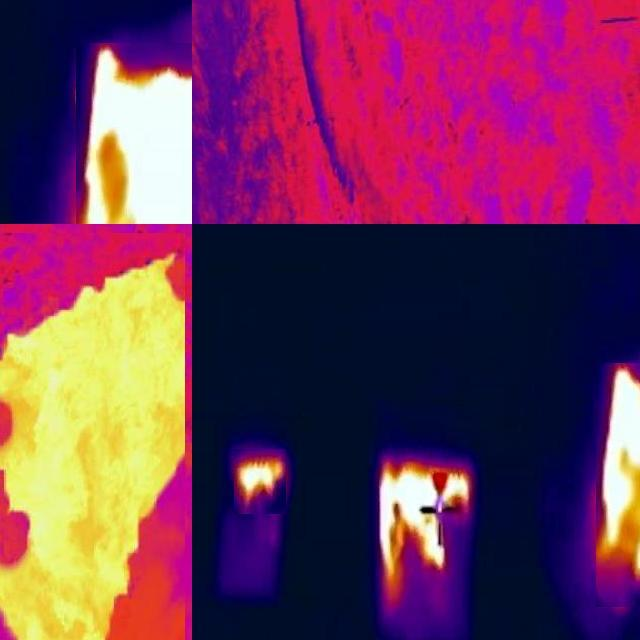fire: (1, 234, 186, 640), (77, 44, 193, 225), (380, 455, 476, 588), (595, 364, 640, 575), (235, 450, 287, 515)
